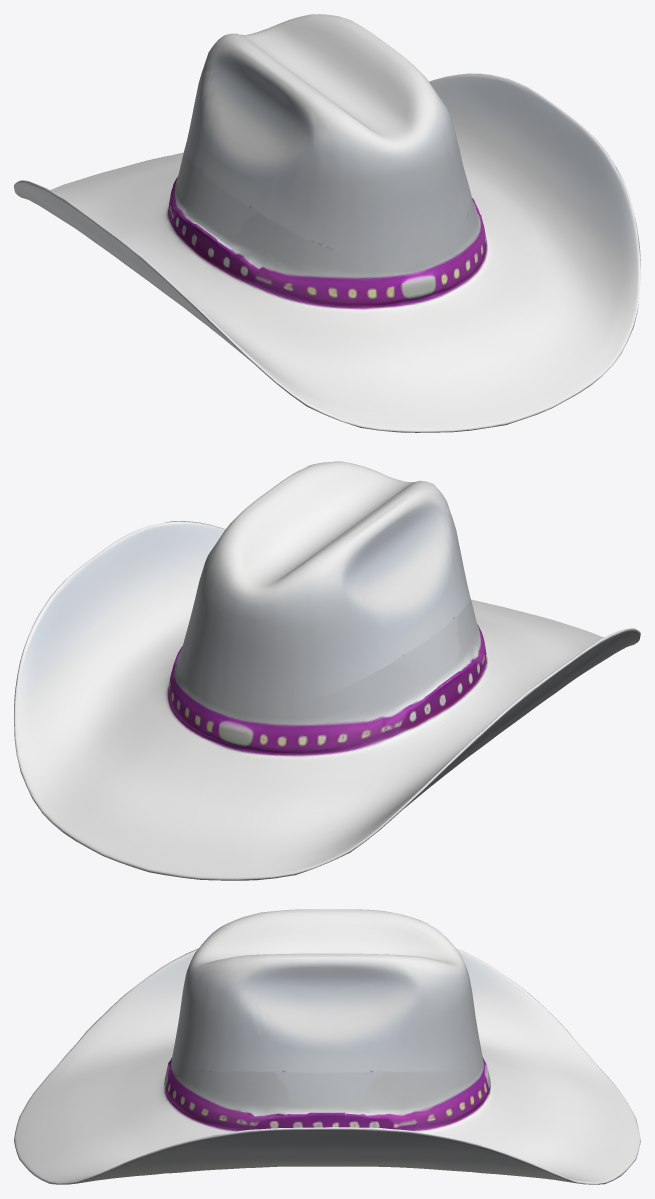
Rendered from WhiteSunHat.fbx.
3 views of the same model, one above another, from view 1: azimuth 30°, elevation 25°; view 2: azimuth 150°, elevation 25°; view 3: azimuth 270°, elevation 25° (orthographic). The views are drawn at different scales.
Visible parts, largest first — view 1: Barbie Hat; view 2: Barbie Hat; view 3: Barbie Hat.
Part boxes in pixels (<box>): Barbie Hat: <box>14,14,640,432</box>; Barbie Hat: <box>14,461,640,880</box>; Barbie Hat: <box>14,909,640,1184</box>.
Size of the model in its own units: 75.76 by 37.1 by 101.
